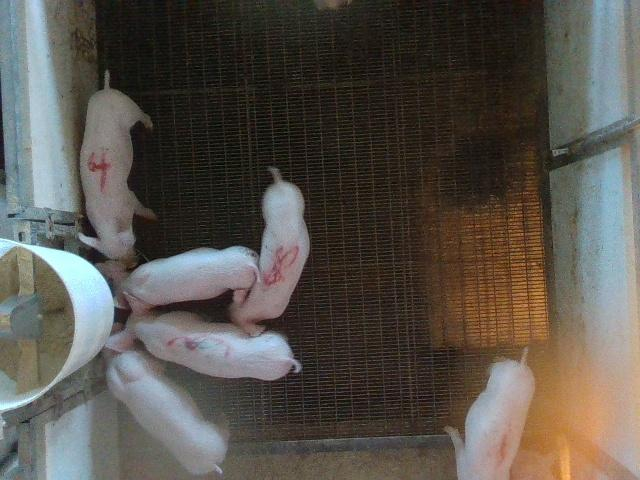pig-1: (445, 352, 535, 479)
pig-3: (106, 293, 301, 379)
pig-4: (80, 80, 141, 259)
pig-5: (230, 168, 310, 334)
